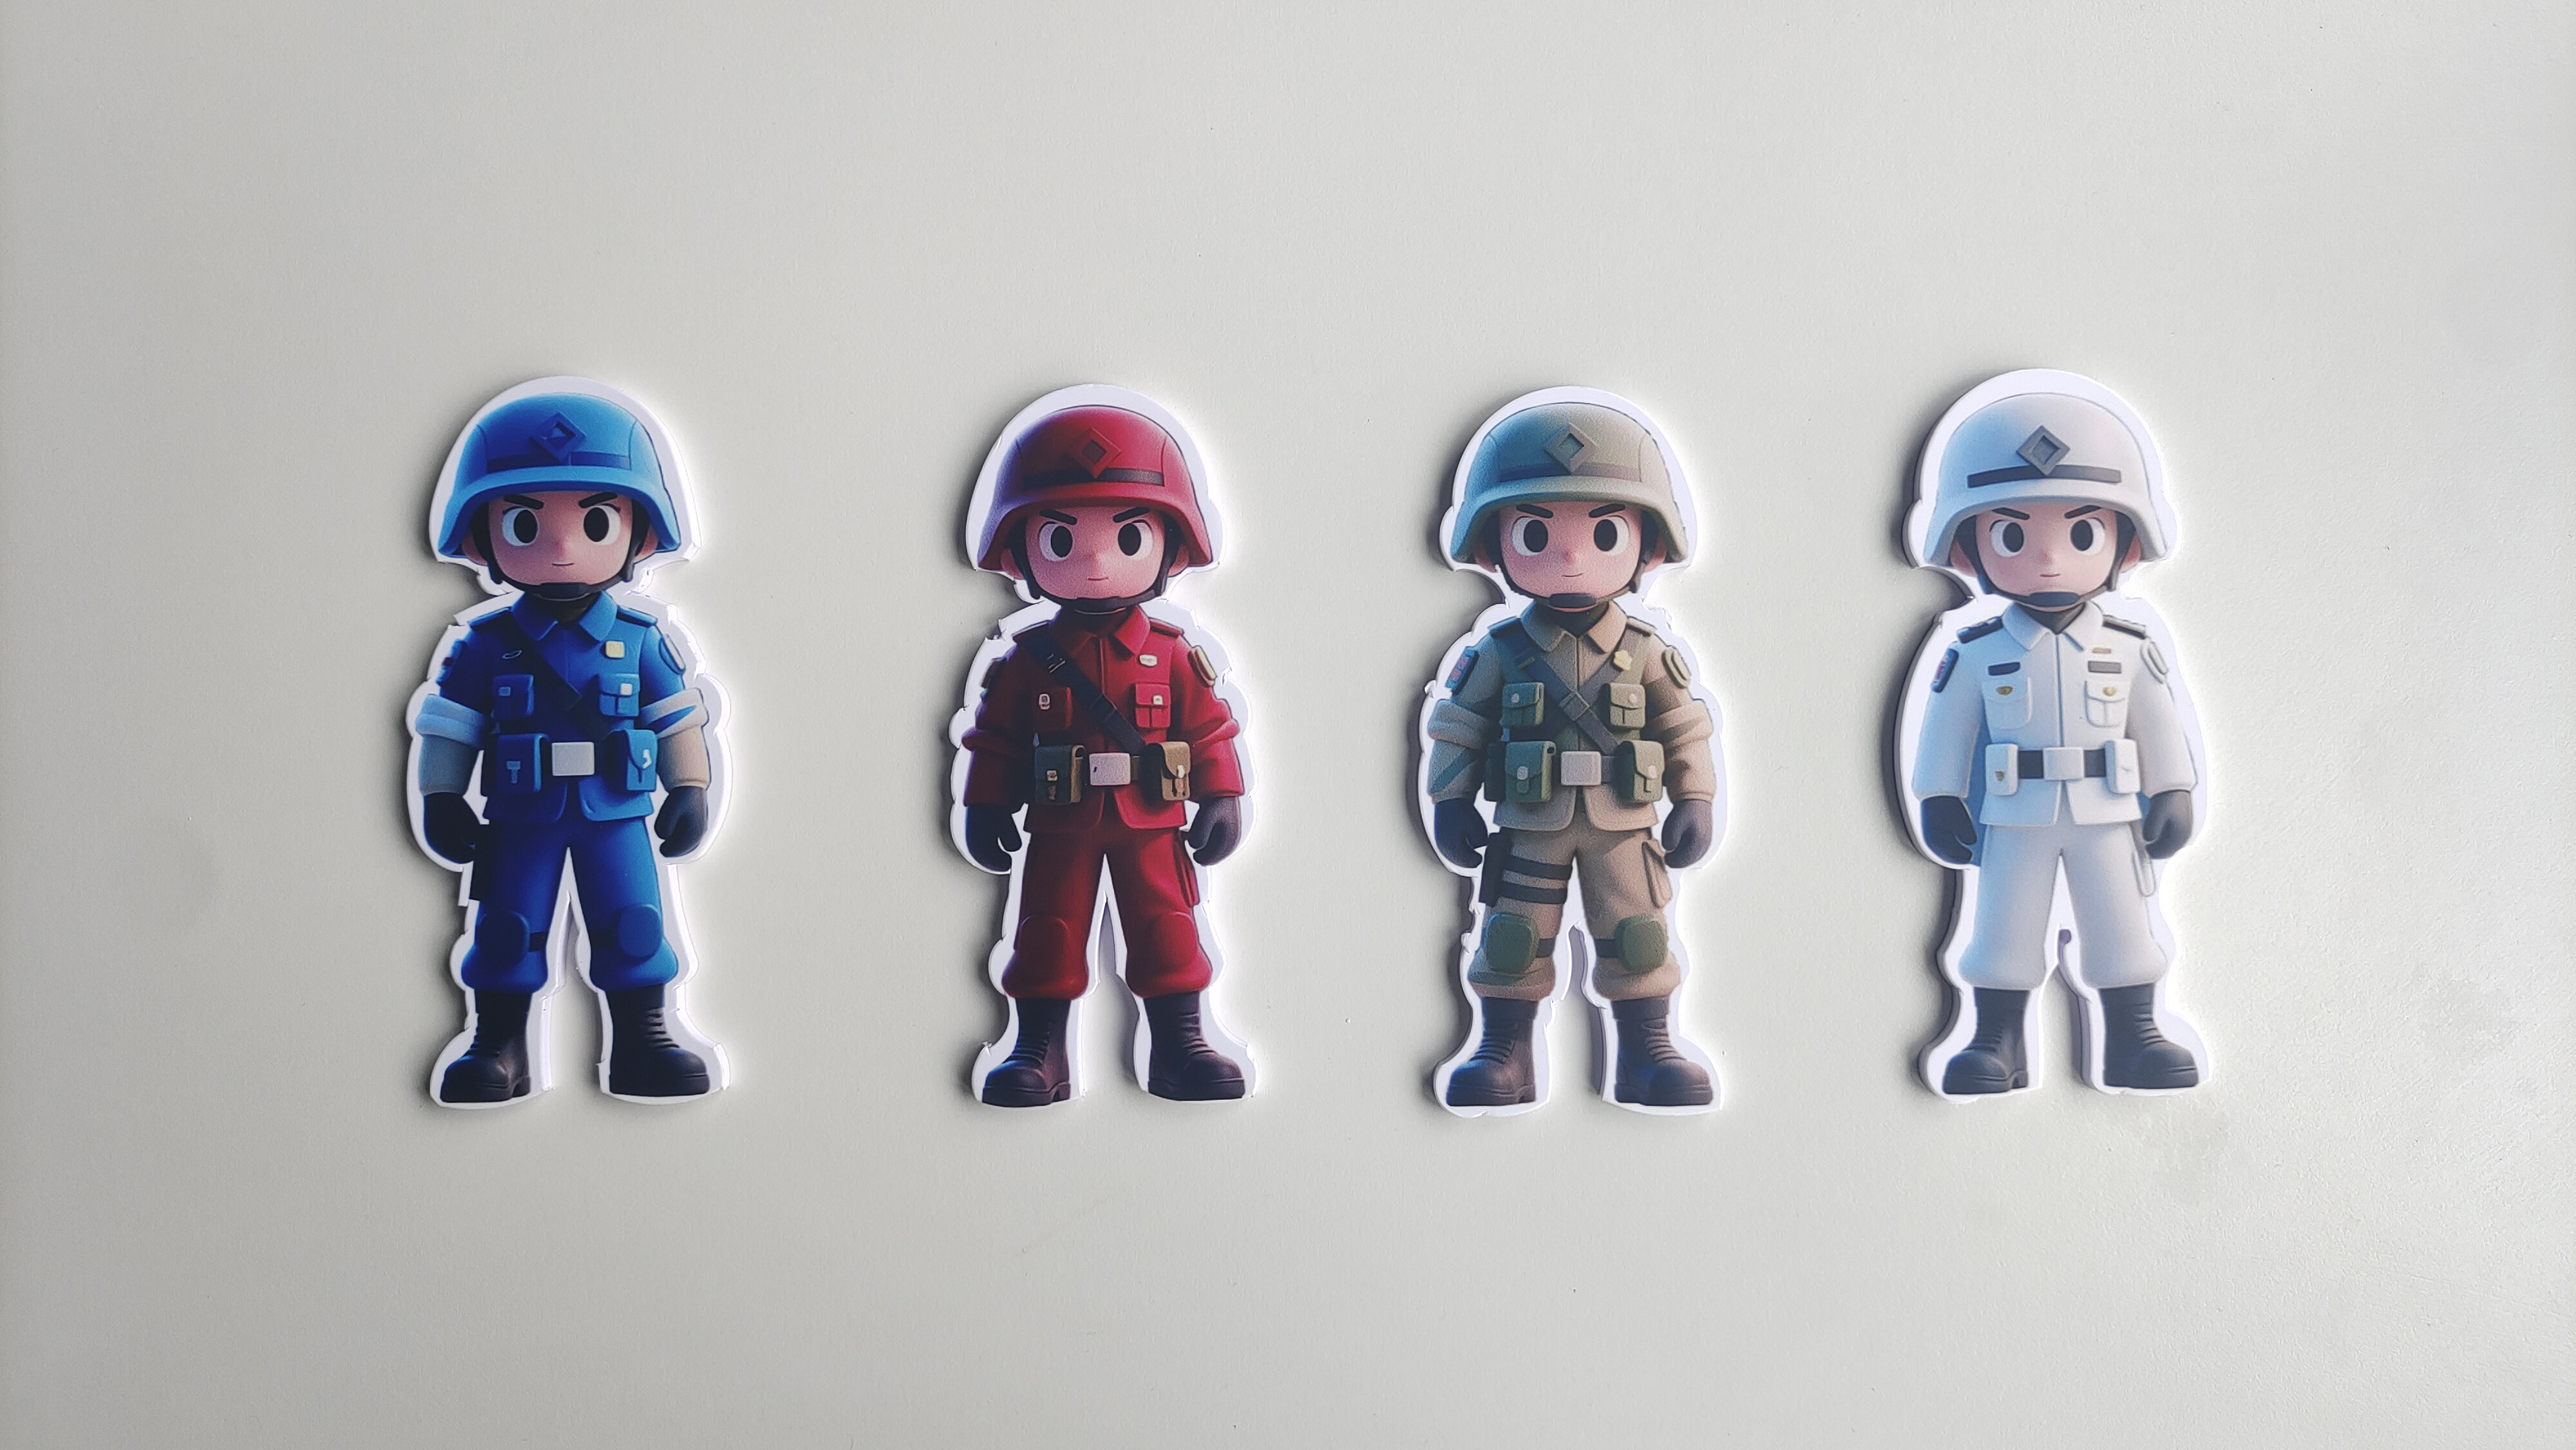enemy1: (938, 608, 1267, 1107)
enemy2: (393, 598, 741, 1126)
friend: (1399, 608, 1732, 1126)
hostage: (1886, 612, 2219, 1110)
